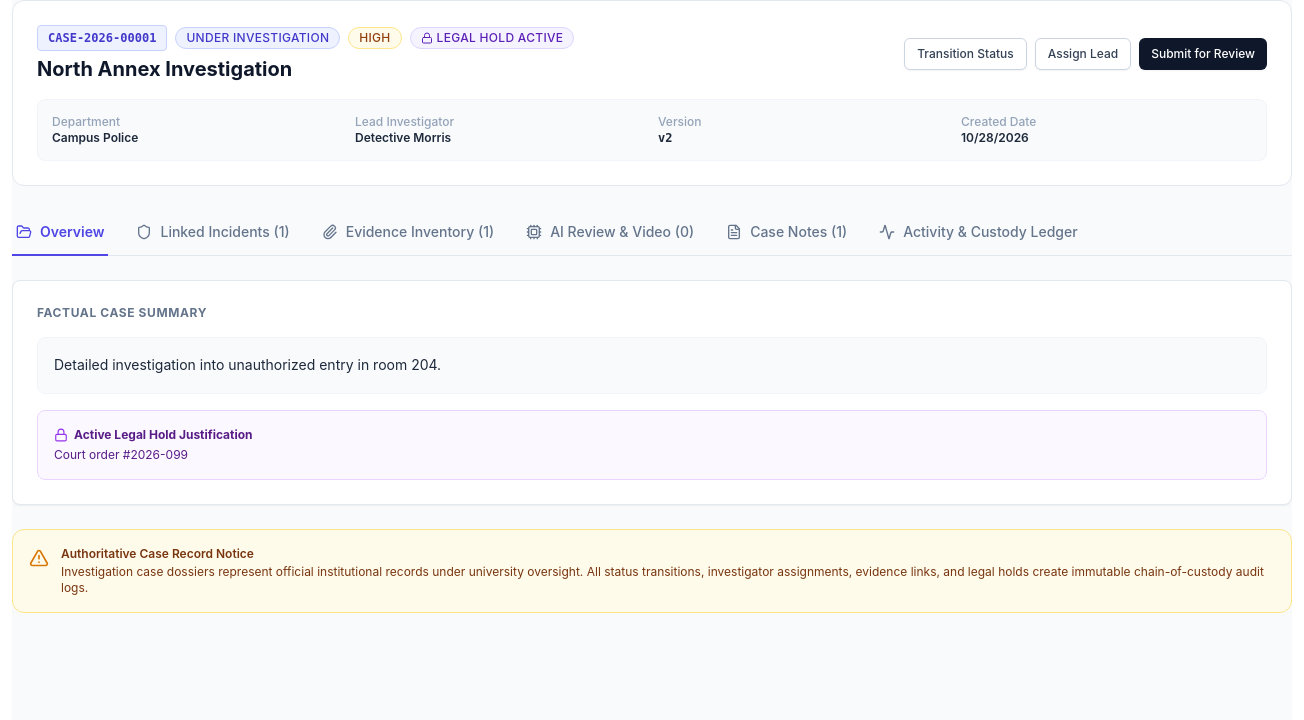
Test: CaseDossierView Component › navigates to Timeline tab and renders chronological events with custody distinction
This screenshot has width=1304, height=720.
Expected: the text "CASE-2026-00001" is shown, 37,25 -> 167,51
Click the button "Activity & Custody Ledger".
click(978, 233)  # box 875,210 -> 1082,256
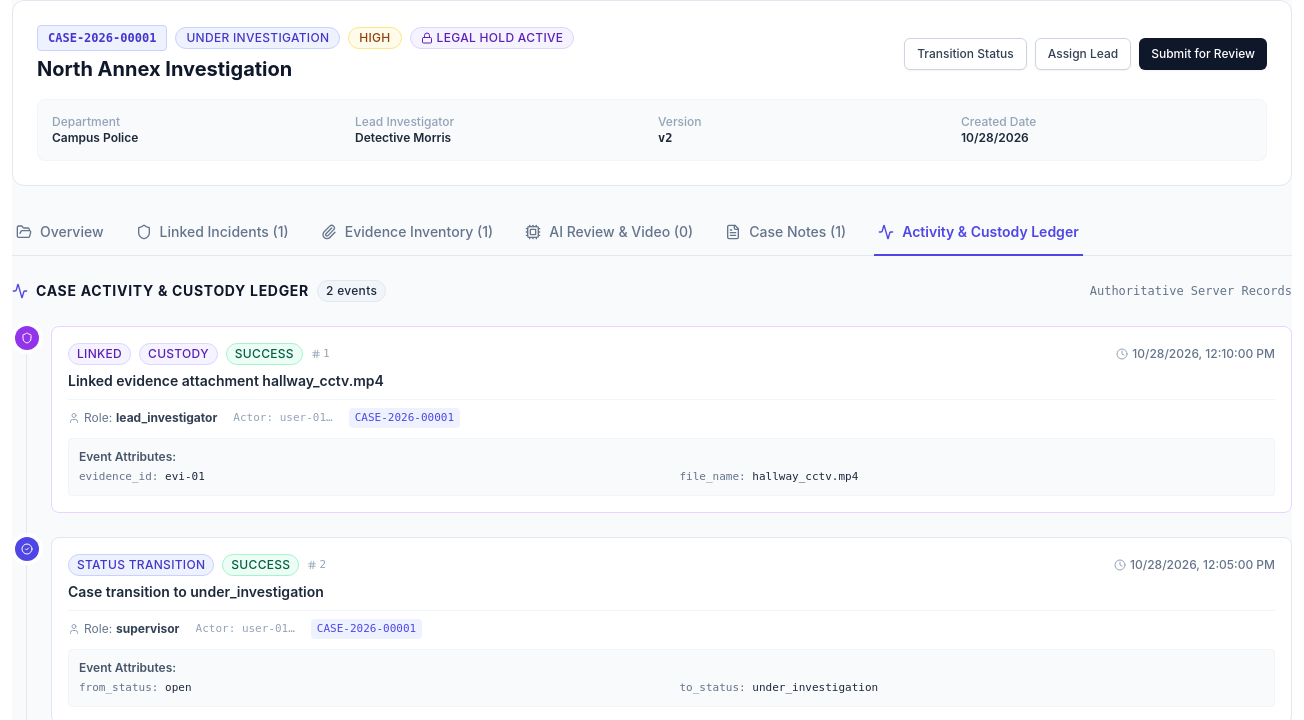
Result: the text "Linked evidence attachment hallway_cctv.mp4" is shown at 68,372 -> 384,389
Result: the text "Case transition to under_investigation" is shown at 68,583 -> 324,600
Result: the text "CUSTODY" is shown at 139,343 -> 218,365
